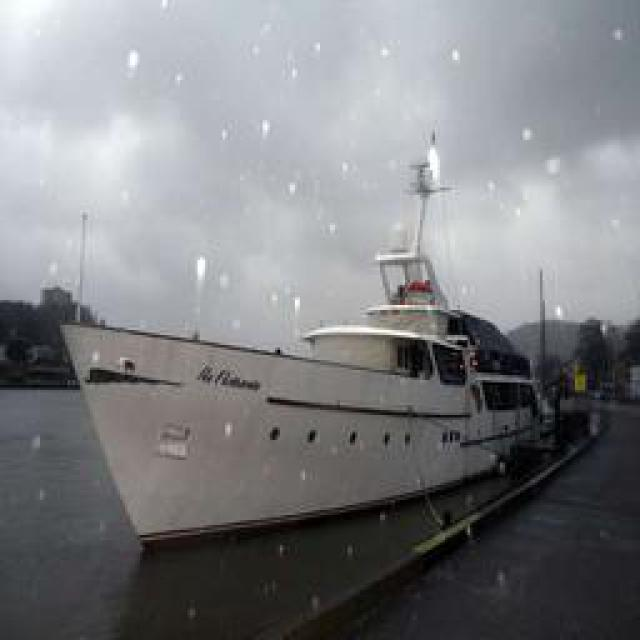Ship: (61, 205, 556, 555)
